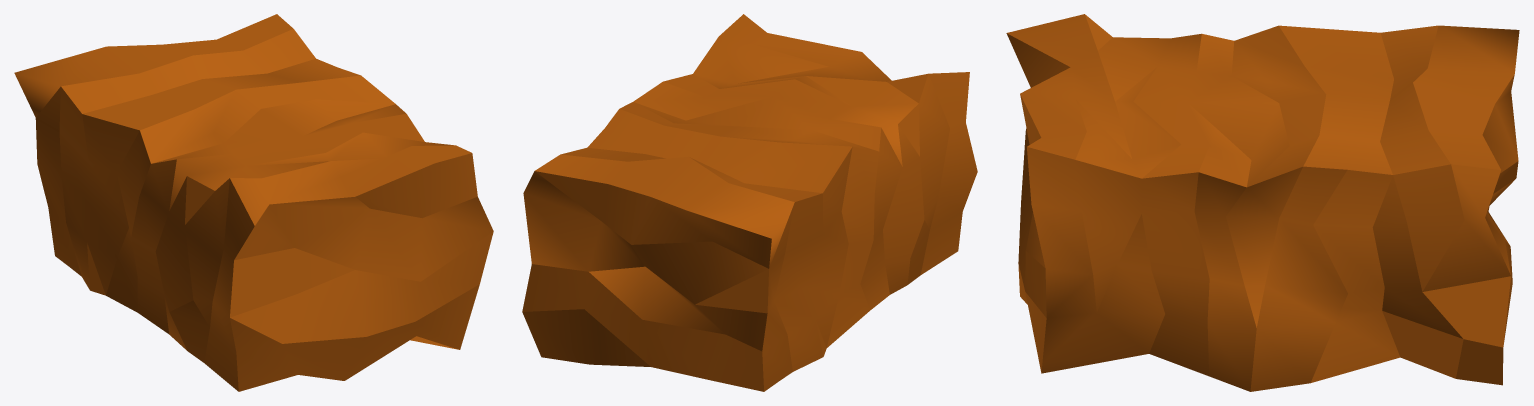
Rendered from Hay_3_1.fbx.
3 views of the same model, side by side, from view 1: azimuth 30°, elevation 25°; view 2: azimuth 150°, elevation 25°; view 3: azimuth 270°, elevation 25° (orthographic). The views are drawn at different scales.
Visible parts, largest first — view 1: Hay_3_1; view 2: Hay_3_1; view 3: Hay_3_1.
Boxes of the visible parts, bbox=[...] form: Hay_3_1: bbox=[14, 14, 493, 391]; Hay_3_1: bbox=[522, 14, 977, 391]; Hay_3_1: bbox=[1006, 14, 1519, 391].
Size of the model in its own units: 23 by 17.17 by 31.82.
